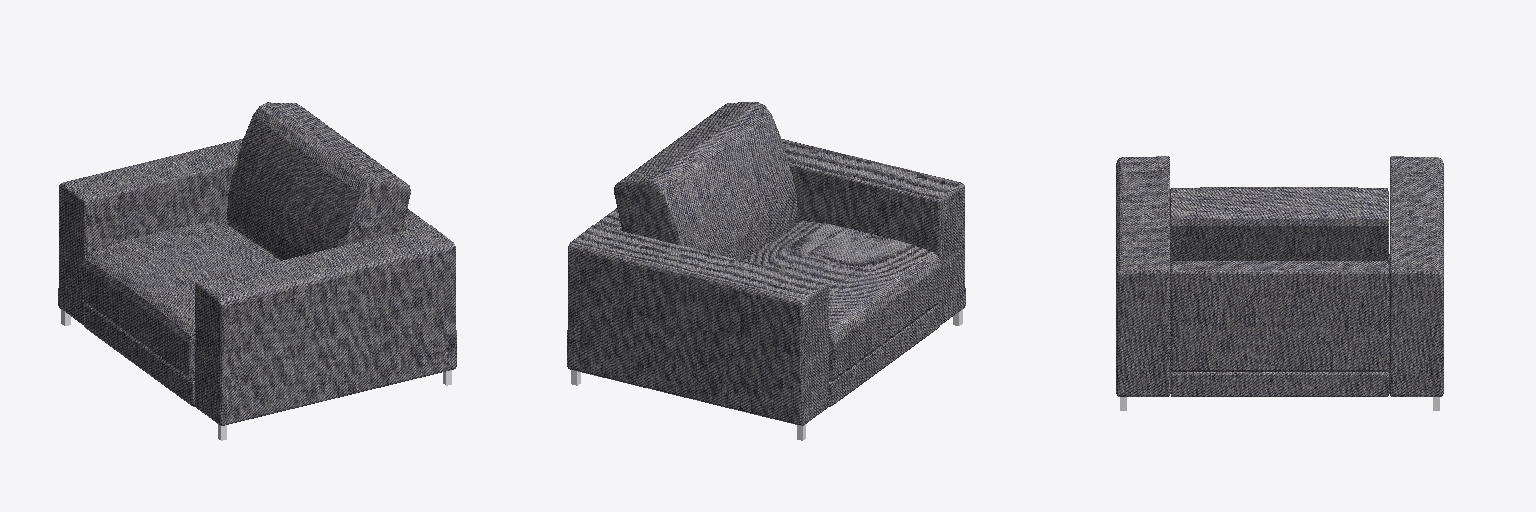
3 renders of one model, left to right at view 1: azimuth 30°, elevation 25°; view 2: azimuth 150°, elevation 25°; view 3: azimuth 270°, elevation 25°, orthographic.
Visible parts, largest first — view 1: left, back, seat, right, base; view 2: right, back, seat, left, base; view 3: base, back, right, left.
Boxes of the visible parts, x1,y1,x2,y2 form: left: [195, 225, 456, 425]; back: [227, 102, 410, 260]; seat: [82, 221, 279, 380]; right: [58, 138, 243, 324]; base: [84, 208, 428, 406]; right: [567, 225, 828, 425]; back: [614, 102, 797, 260]; seat: [744, 221, 941, 380]; left: [782, 139, 965, 324]; base: [595, 208, 939, 406]; base: [1171, 261, 1388, 396]; back: [1170, 187, 1388, 342]; right: [1389, 156, 1443, 396]; left: [1116, 156, 1170, 396].
Bounding box in the file's own units: 1 × 0.781 × 1.18.
2 materials, 1 textured.